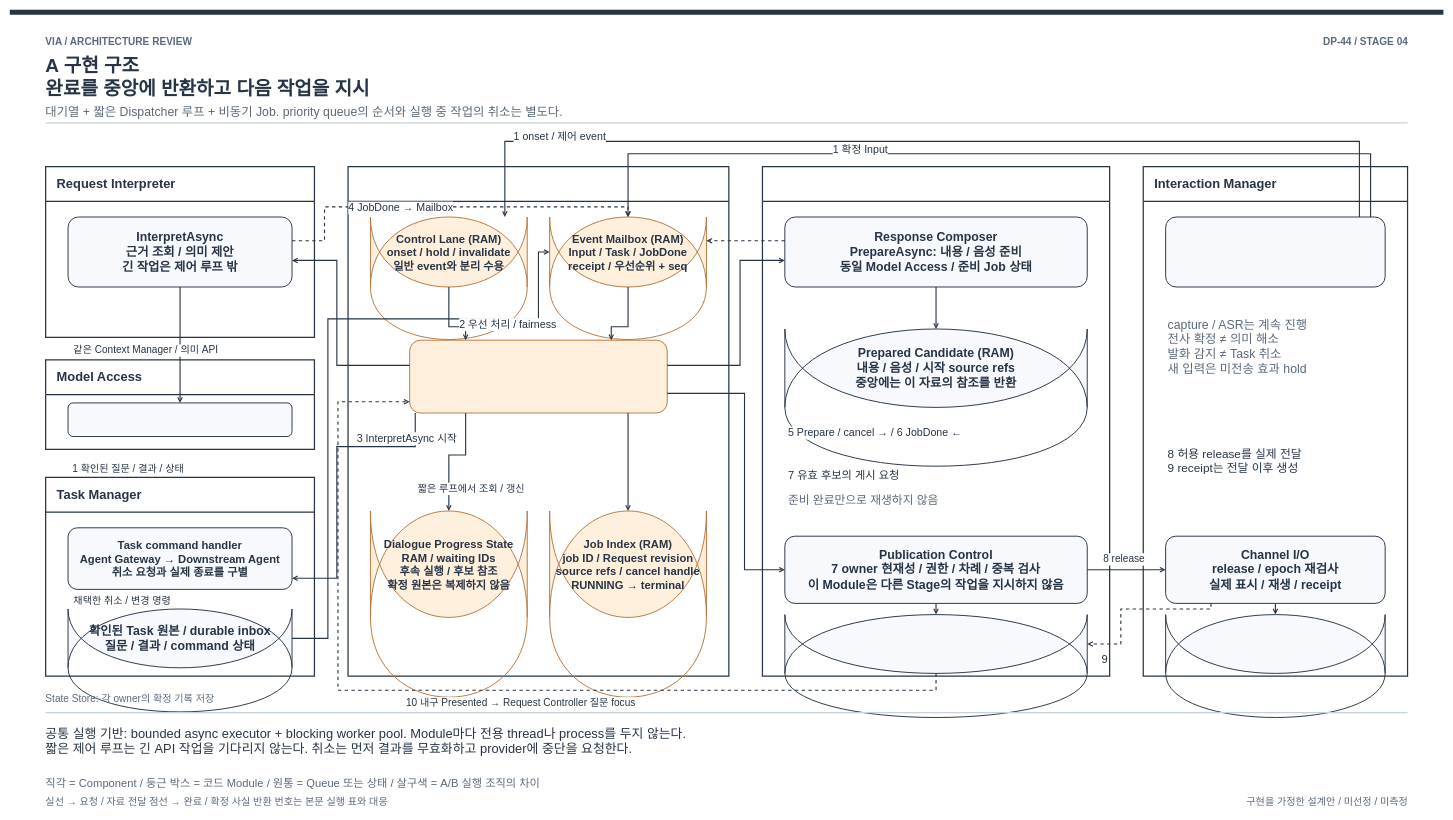
The diagram is 1453 pixels wide and 820 high, and some of its shapes have lost their labels. Here are the shapes that lost their labels. From the top down, the box of each, then its label:
(1165, 216, 1385, 287): Turn-Taking Control 입력 감지 → 즉시 local stop 현재 input / 출력 epoch
(409, 339, 667, 413): Dialogue Dispatcher Pump → 짧은 Handle(event) 채택 / 유효성 / 다음 Job 지시
(67, 402, 292, 437): API adapter / bounded admission
(347, 166, 729, 677): Request Controller
(762, 166, 1110, 677): Response Manager
(784, 614, 1087, 674): Publication Outbox (내구 원본) publication ID / 실제 전달 범위
(1165, 614, 1385, 674): Playback State 장치 상태 / receipt buffer
